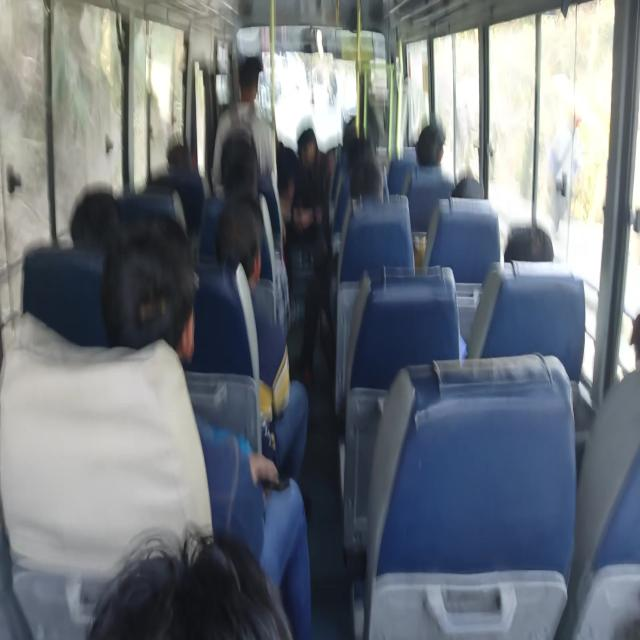person: (57, 428, 285, 640), (124, 235, 206, 357), (585, 249, 640, 402), (76, 190, 141, 261), (273, 128, 317, 214), (221, 218, 266, 288), (136, 172, 187, 230), (221, 172, 260, 238), (492, 208, 532, 269), (237, 63, 270, 129), (354, 158, 391, 209), (159, 147, 193, 199), (446, 167, 482, 215), (415, 118, 440, 179), (295, 136, 326, 179), (235, 130, 255, 177), (348, 135, 369, 169), (400, 134, 422, 149)
